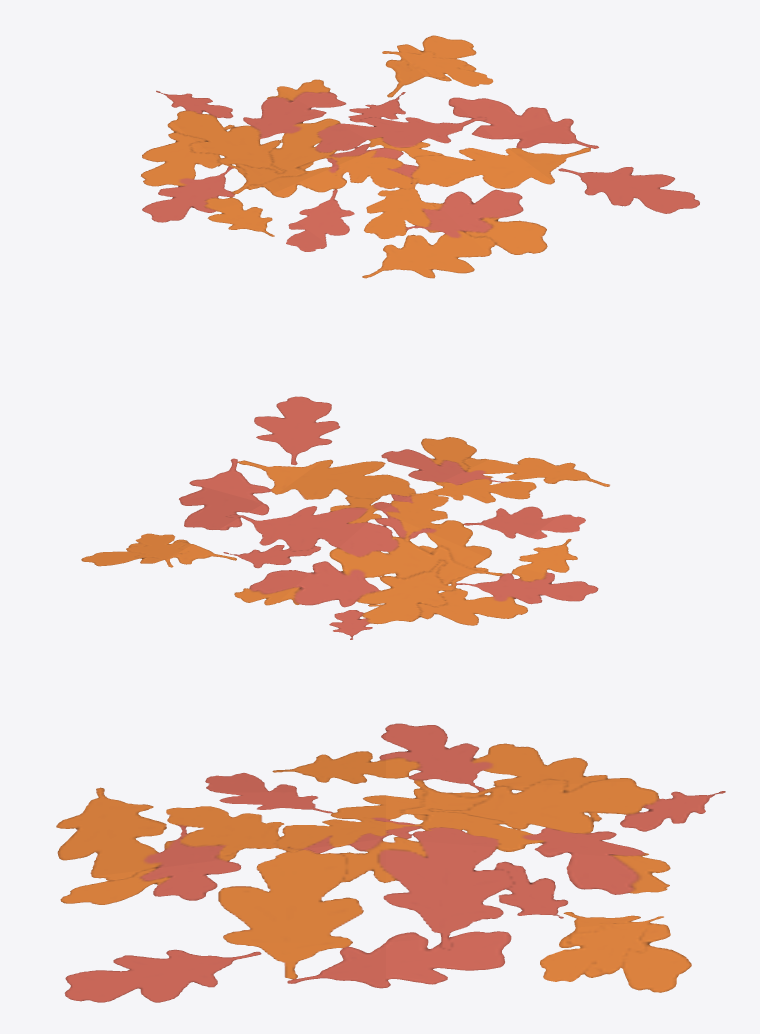
File: SM_Oak_Leaves_Pile_Yellow_Pink.fbx
The picture shows the model from 3 angles, top to bottom: view 1: azimuth 30°, elevation 25°; view 2: azimuth 150°, elevation 25°; view 3: azimuth 270°, elevation 25°; orthographic projection. The views are drawn at different scales.
Parts seen in each view (by area): view 1: Plane.011; view 2: Plane.011; view 3: Plane.011.
Part boxes in pixels (left/top/right/bottom): Plane.011: left=140, top=35, right=699, bottom=278; Plane.011: left=81, top=396, right=610, bottom=639; Plane.011: left=56, top=723, right=725, bottom=1002.
Size of the model in its own units: 18.38 by 1.84 by 18.68.
